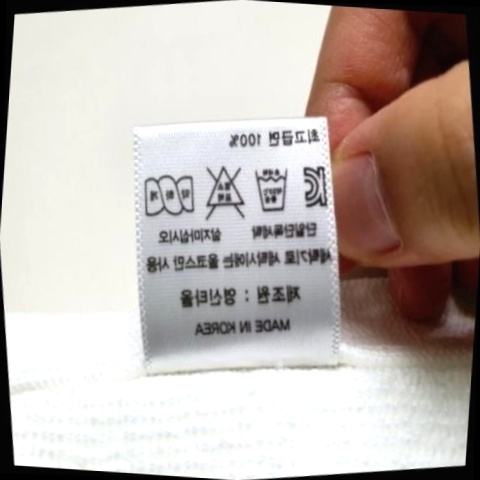hand_wash: (245, 163, 296, 220)
non_chlorine_bleach: (195, 157, 252, 226)
wring: (139, 169, 201, 223)
